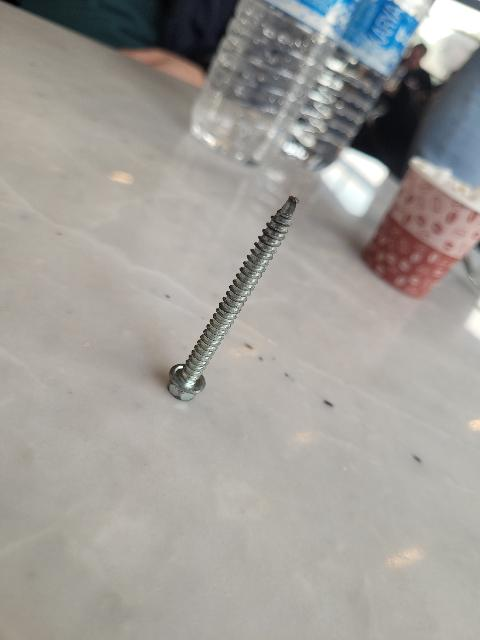Kagit: (358, 157, 480, 298)
Metal: (140, 196, 306, 405)
Plastik: (184, 0, 409, 175)
